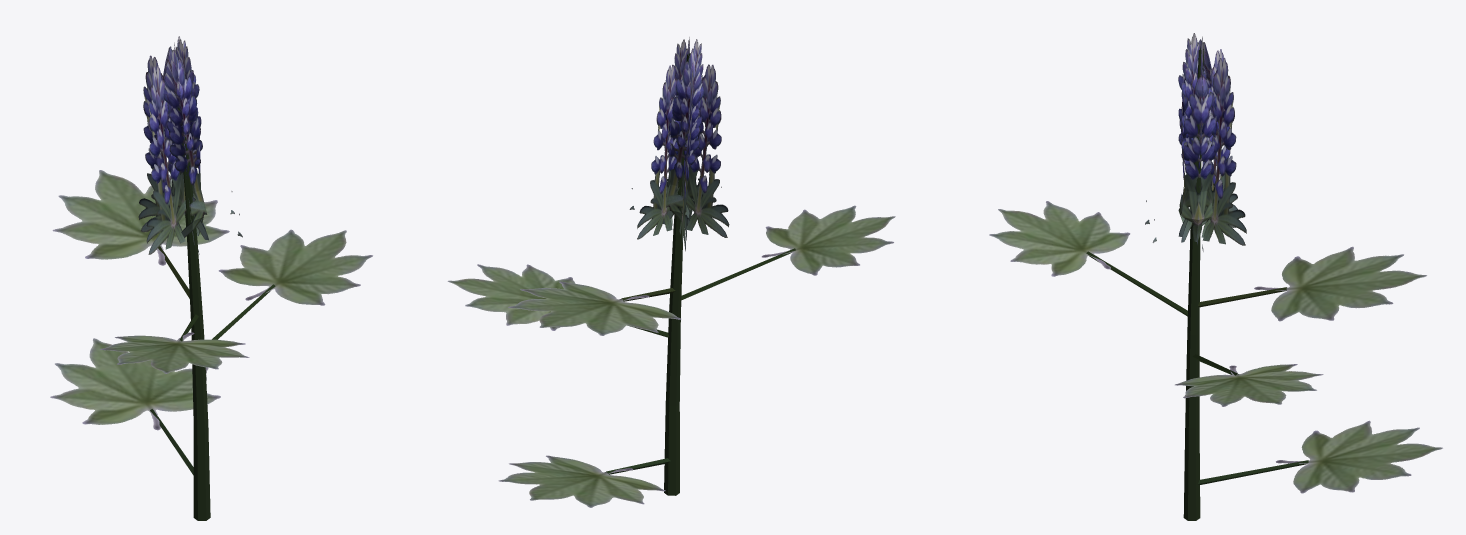
The model's file is category_mesh_flower_1.glb.
3 views of the same model, side by side, from view 1: azimuth 30°, elevation 25°; view 2: azimuth 150°, elevation 25°; view 3: azimuth 270°, elevation 25° (orthographic). The views are drawn at different scales.
Visible parts, largest first — view 1: category_mesh_flower_1; view 2: category_mesh_flower_1; view 3: category_mesh_flower_1.
Part boxes in pixels (x1=…): category_mesh_flower_1: x1=50, y1=36, x2=372, y2=520; category_mesh_flower_1: x1=447, y1=37, x2=895, y2=507; category_mesh_flower_1: x1=989, y1=33, x2=1442, y2=520.
Size of the model in its own units: 0.3569 by 0.4124 by 0.3907.
Materials: 1 (1 with a texture image).
